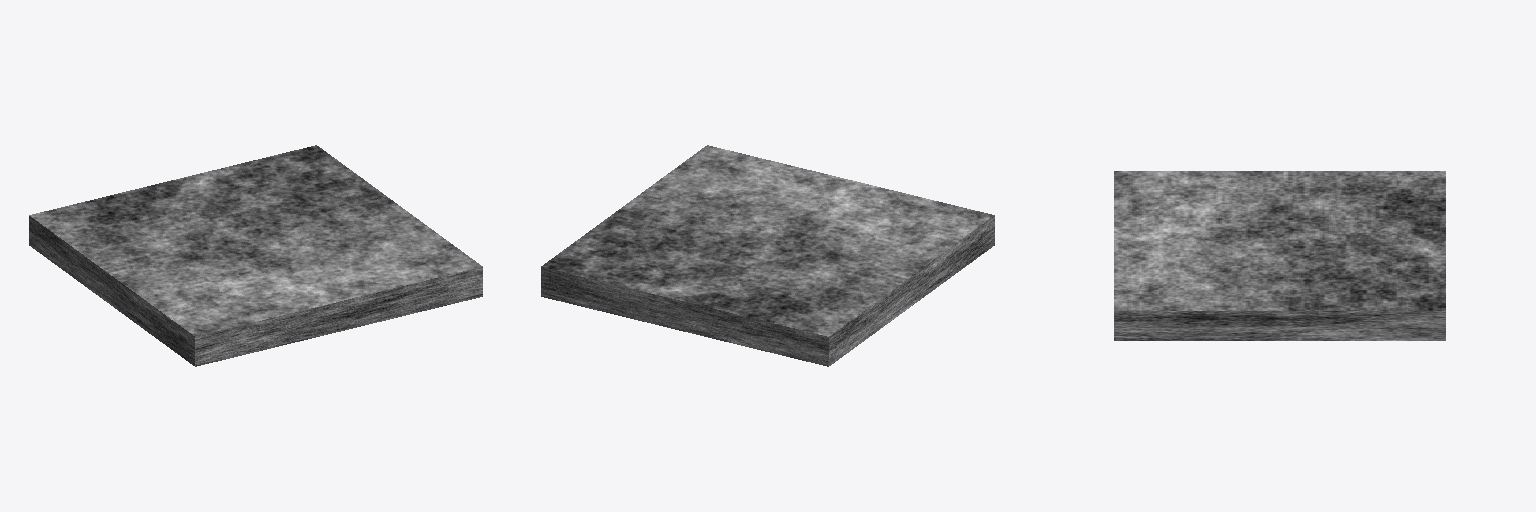
3 views of the same model, side by side, from view 1: azimuth 30°, elevation 25°; view 2: azimuth 150°, elevation 25°; view 3: azimuth 270°, elevation 25° (orthographic).
Visible parts, largest first — view 1: Cube; view 2: Cube; view 3: Cube.
Part boxes in pixels (left/top/right/bottom): Cube: left=29, top=145, right=482, bottom=366; Cube: left=541, top=145, right=994, bottom=366; Cube: left=1114, top=171, right=1445, bottom=340.
Bounding box in the file's own units: 20 × 2 × 20.
Materials: 1 (1 with a texture image).